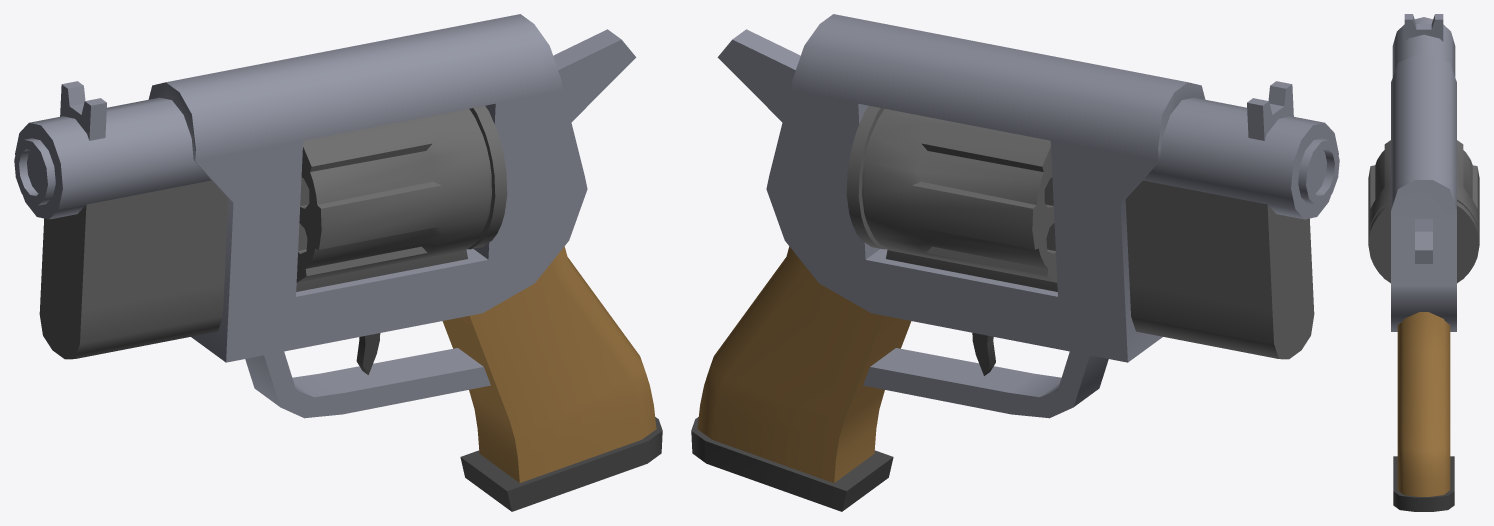
File: Revolver_Small.glb
The picture shows the model from 3 angles, left to right: view 1: azimuth 30°, elevation 25°; view 2: azimuth 150°, elevation 25°; view 3: azimuth 270°, elevation 25°; orthographic projection. The views are drawn at different scales.
Visible parts, largest first — view 1: Revolver_Small; view 2: Revolver_Small; view 3: Revolver_Small.
Boxes of the visible parts, box(x1,y1,x2,y2) form: Revolver_Small: box(14, 14, 662, 511); Revolver_Small: box(691, 14, 1339, 511); Revolver_Small: box(1368, 14, 1479, 511).
Bounding box in the file's own units: 0.6632 × 0.5096 × 0.1576.
